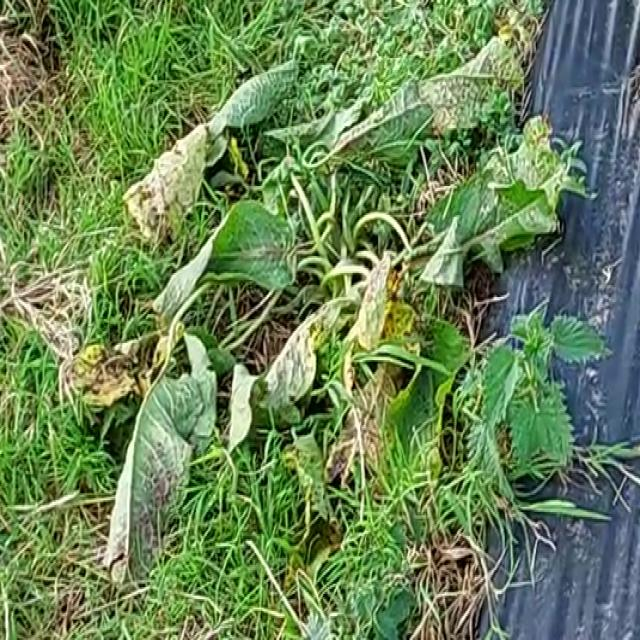organic waste: (89, 27, 561, 582)
